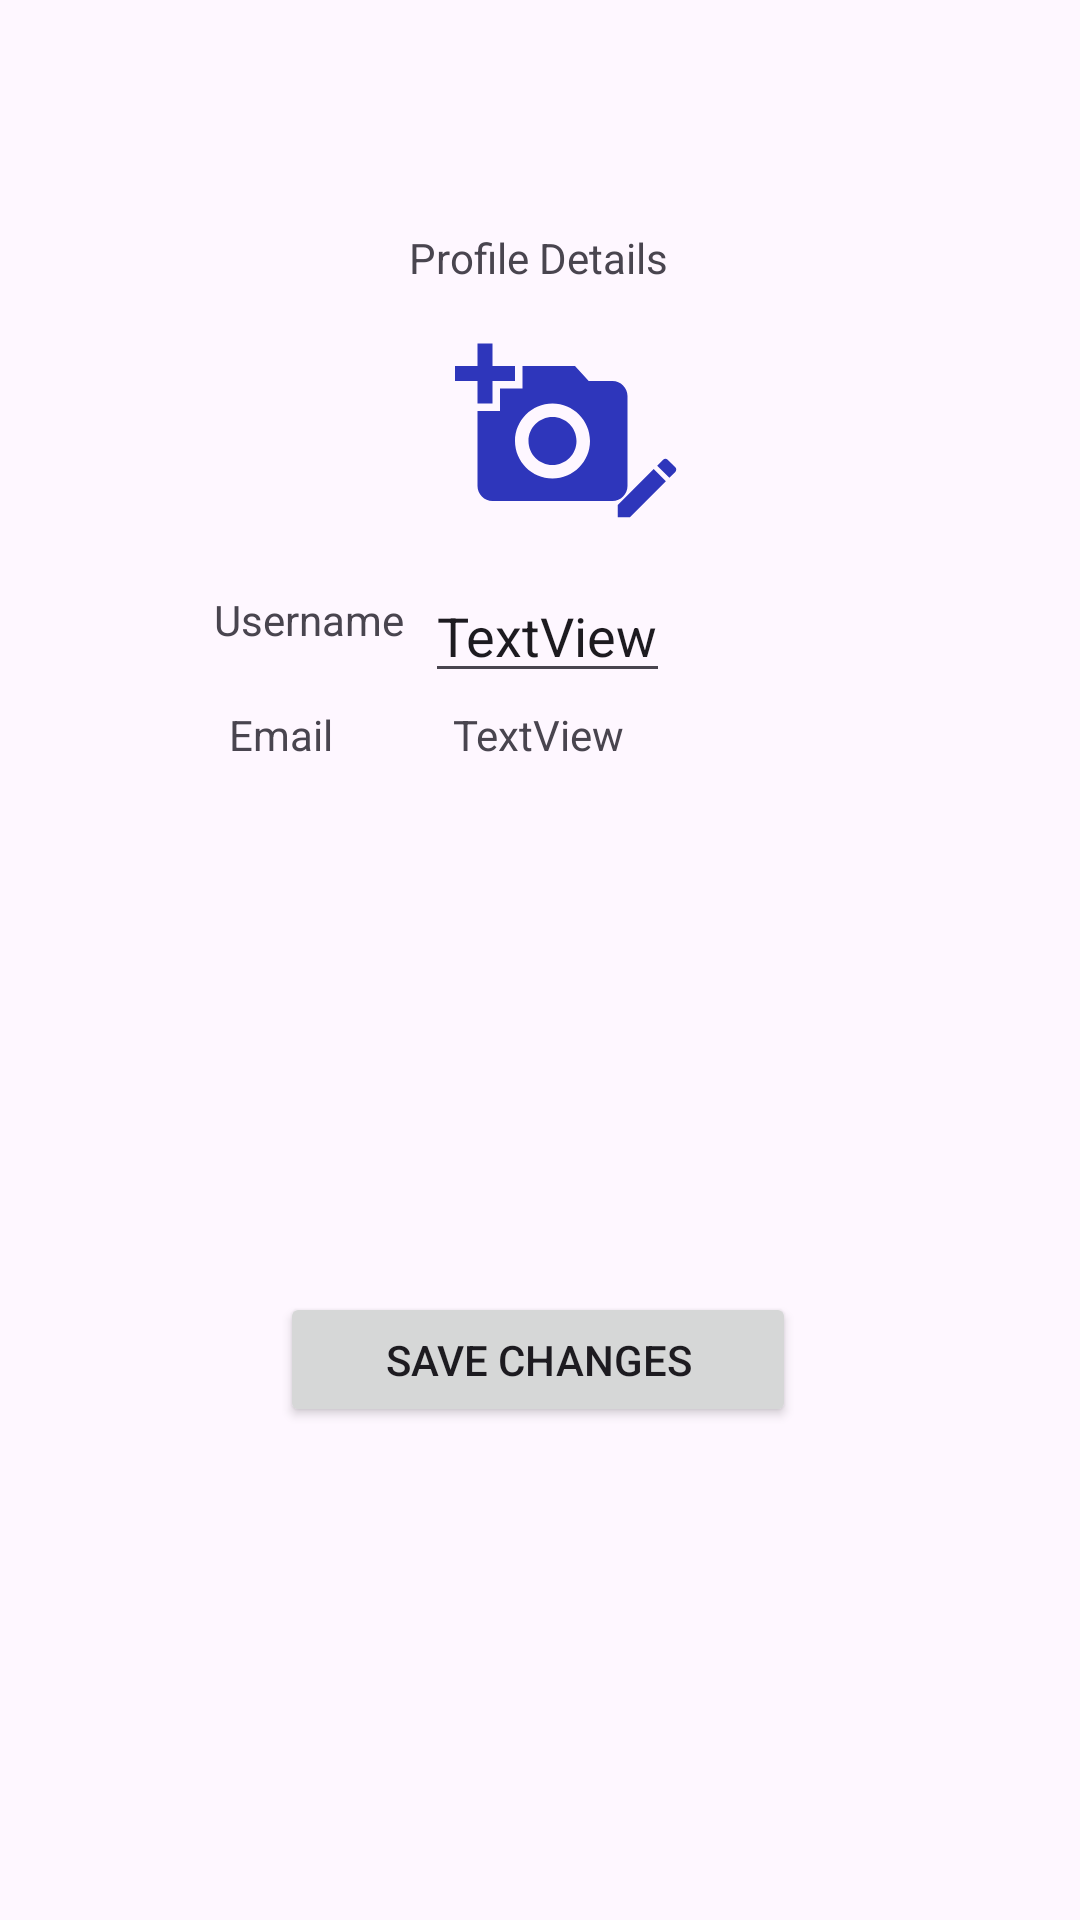

Where icons sit on this 1080 x 1920 app screen, as rect(x1, y1, x2, y2):
add: rect(455, 343, 628, 501)
edit: rect(617, 458, 677, 518)
